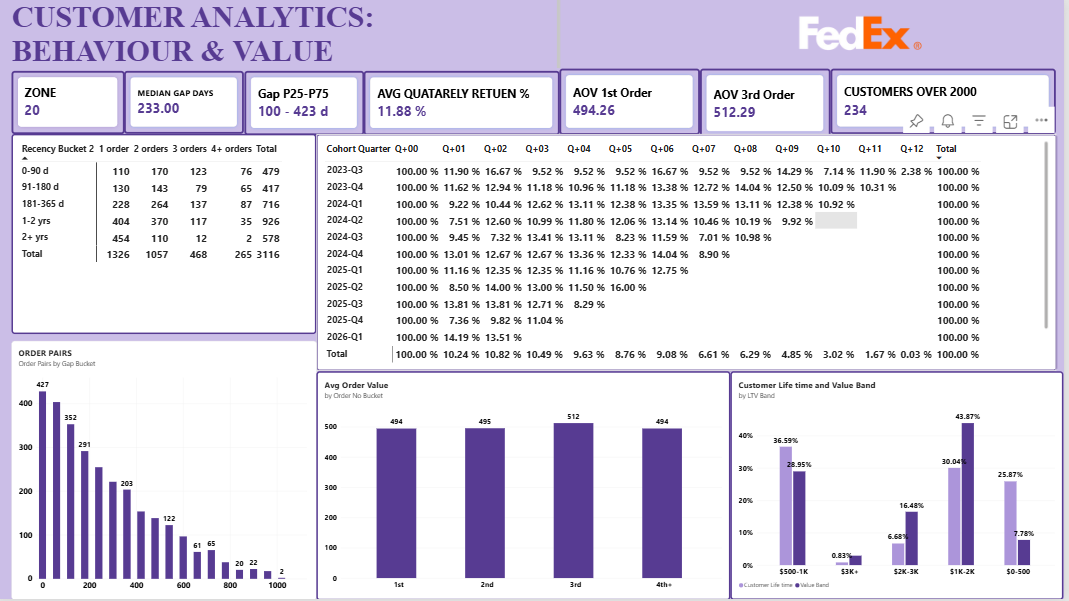

What the dashboard file says about the page in this screenshot:
{"tool":"powerbi","page":{"name":"BEHAVIOUR & VALUE","canvas":[2560,1440],"ordinal":1},"visuals":[{"type":"cardVisual","fields":{"Data":["Customers.Median Gap Days"]},"box":[303.3,170,288.4,151.4],"z":0},{"type":"cardVisual","fields":{"Data":["Customers.Gap P25-P75"]},"box":[591,170,287.7,154.3],"z":1000},{"type":"cardVisual","fields":{"Data":["Shipments.Avg Quarterly Return Rate"]},"box":[878.7,170,470.7,154.3],"z":2000},{"type":"cardVisual","fields":{"Data":["Shipments.AOV 1st Order"]},"box":[1349.4,164.7,337.3,159.5],"z":3000},{"type":"cardVisual","fields":{"Data":["Shipments.AOV 3rd Order"]},"box":[1686.7,164.7,313.8,167.4],"z":4000},{"type":"cardVisual","fields":{"Data":["Shipments.Customers Over 2000"]},"box":[2000.5,164.7,541.3,156.9],"z":5000},{"type":"pivotTable","fields":{"Columns":["Customers.Frequency Bucket"],"Rows":["Customers.Recency Bucket 2"],"Values":["Customers.Total Customers"]},"box":[31.4,321.7,732.2,481.2],"z":6000},{"type":"pivotTable","fields":{"Columns":["Shipments.Q Offset Label"],"Rows":["Shipments.Cohort Quarter"],"Values":["Shipments.Cohort Active %"]},"box":[763.6,321.7,1778.2,570.1],"z":7000},{"type":"clusteredColumnChart","title":"ORDER PAIRS","fields":{"Category":["Shipments.Gap Bucket"],"Y":["Shipments.Order Pairs"]},"box":[31.2,819.4,732.9,622.4],"z":8000},{"type":"clusteredColumnChart","fields":{"Category":["Shipments.Order No Bucket"],"Y":["Customers.Avg Order Value"]},"box":[764.2,891.5,994.8,550.3],"z":9000},{"type":"clusteredColumnChart","fields":{"Category":["Customers.LTV Band"],"Y":["Customers.Customers %","Customers.Revenue %"]},"box":[1759.9,891.7,800.2,549.2],"z":10000},{"type":"cardVisual","fields":{"Data":["Count(Shipments.Origin Zone)"]},"box":[31.4,170,272,151.7],"z":11000},{"type":"image","box":[1556,0,1004.2,164.7],"z":11001},{"type":"textbox","box":[31.4,0,1318,164.7],"z":11002}]}

Visuals, with their boxes in screenshot pixels (x1, y1, x2, y2), scaled from the page's 2560x1440 canvas onto the 1069x601 screenshot:
cardVisual - Customers.Median Gap Days: (left=127, top=71, right=247, bottom=134)
cardVisual - Customers.Gap P25-P75: (left=247, top=71, right=367, bottom=135)
cardVisual - Shipments.Avg Quarterly Return Rate: (left=367, top=71, right=563, bottom=135)
cardVisual - Shipments.AOV 1st Order: (left=563, top=69, right=704, bottom=135)
cardVisual - Shipments.AOV 3rd Order: (left=704, top=69, right=835, bottom=139)
cardVisual - Shipments.Customers Over 2000: (left=835, top=69, right=1061, bottom=134)
pivotTable - Customers.Frequency Bucket x Customers.Recency Bucket 2: (left=13, top=134, right=319, bottom=335)
pivotTable - Shipments.Q Offset Label x Shipments.Cohort Quarter: (left=319, top=134, right=1061, bottom=372)
"ORDER PAIRS" clusteredColumnChart: (left=13, top=342, right=319, bottom=600)
clusteredColumnChart - Shipments.Order No Bucket x Customers.Avg Order Value: (left=319, top=372, right=735, bottom=600)
clusteredColumnChart - Customers.LTV Band x Customers.Customers %: (left=735, top=372, right=1068, bottom=600)
cardVisual - Count(Shipments.Origin Zone): (left=13, top=71, right=127, bottom=134)
image: (left=650, top=0, right=1068, bottom=69)
textbox: (left=13, top=0, right=563, bottom=69)
